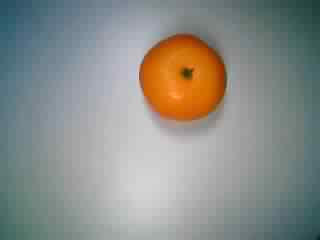orange: (137, 30, 235, 128)
